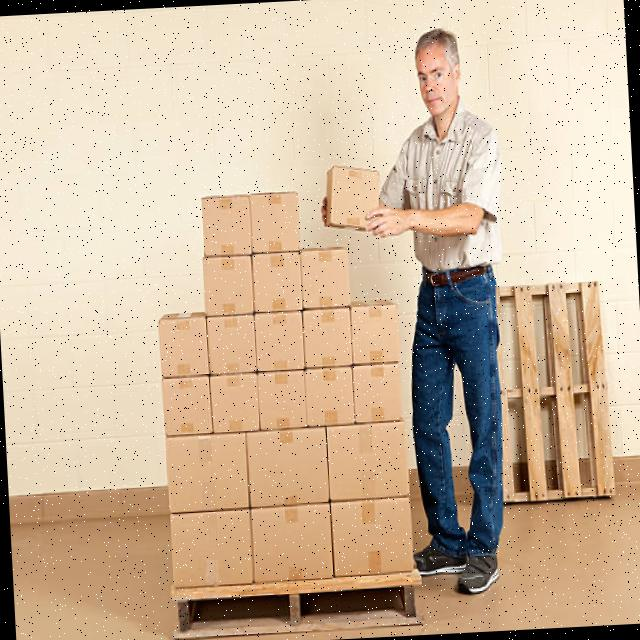Wooden-Pallets: (503, 273, 621, 509), (167, 577, 421, 640)
